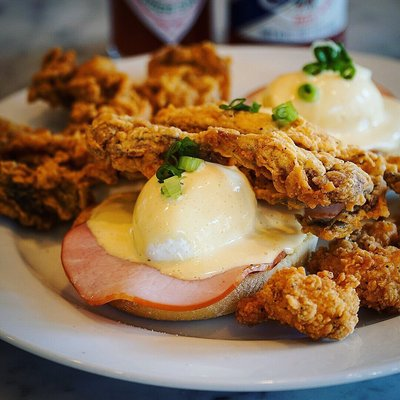pizza: (226, 0, 351, 46)
